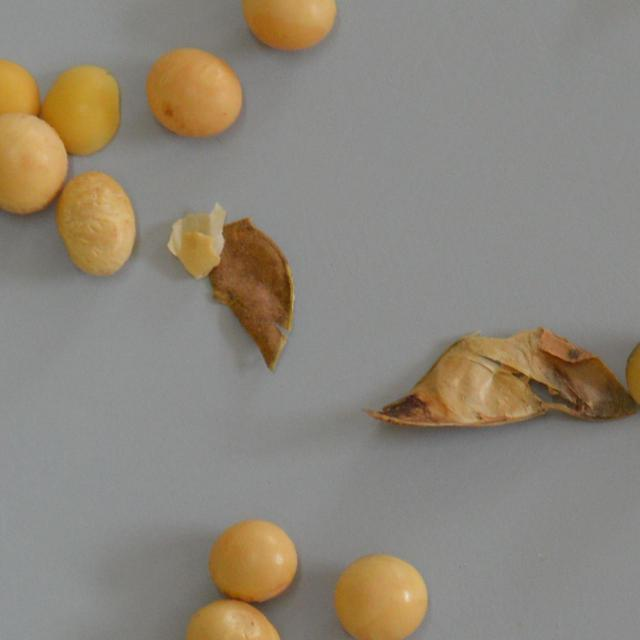cuerpos_extranos: (361, 322, 636, 428), (208, 218, 296, 372), (44, 171, 143, 277), (28, 63, 128, 156), (206, 513, 305, 606), (148, 48, 247, 141), (330, 554, 429, 640), (0, 117, 70, 213), (236, 0, 336, 58), (165, 202, 227, 280), (0, 49, 49, 142), (184, 598, 283, 640), (626, 324, 640, 416)
